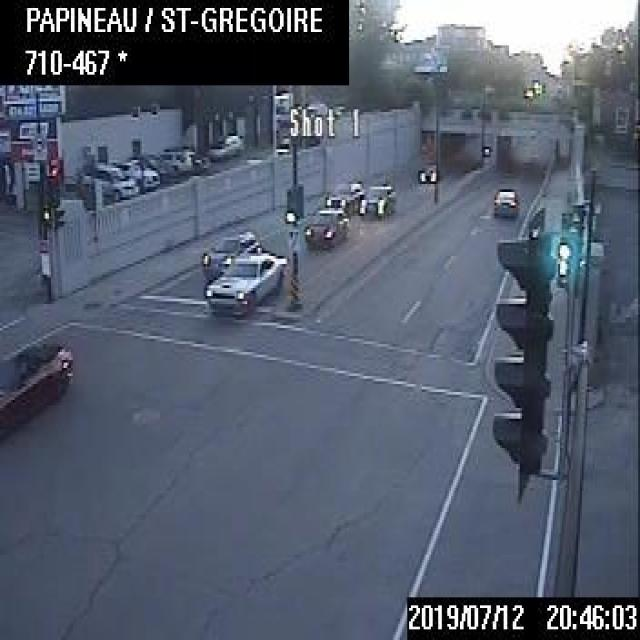vehicle: (0, 339, 75, 440), (200, 239, 287, 312), (200, 225, 261, 282), (79, 157, 137, 201), (110, 153, 158, 194), (304, 207, 353, 246), (356, 180, 396, 224), (322, 175, 363, 216), (206, 128, 242, 164), (491, 184, 516, 213), (416, 166, 436, 182)
